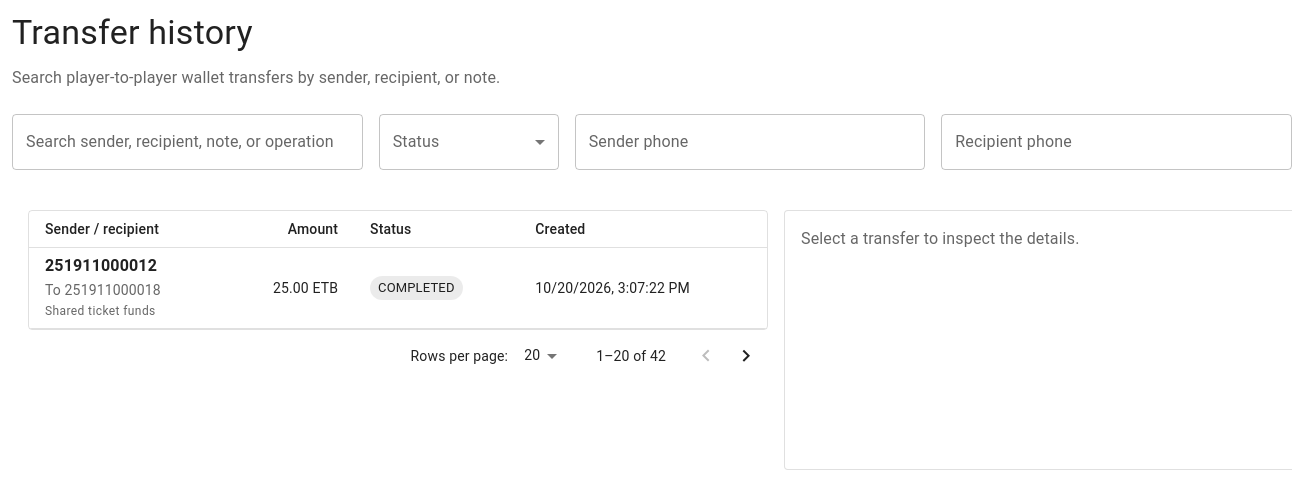
Test: WalletTransfersPage › does not display server internals when transfer detail fails
Click the button with test id "wallet-transfer-row-24" at (398, 288), box x1=29 y1=247 x2=767 y2=328
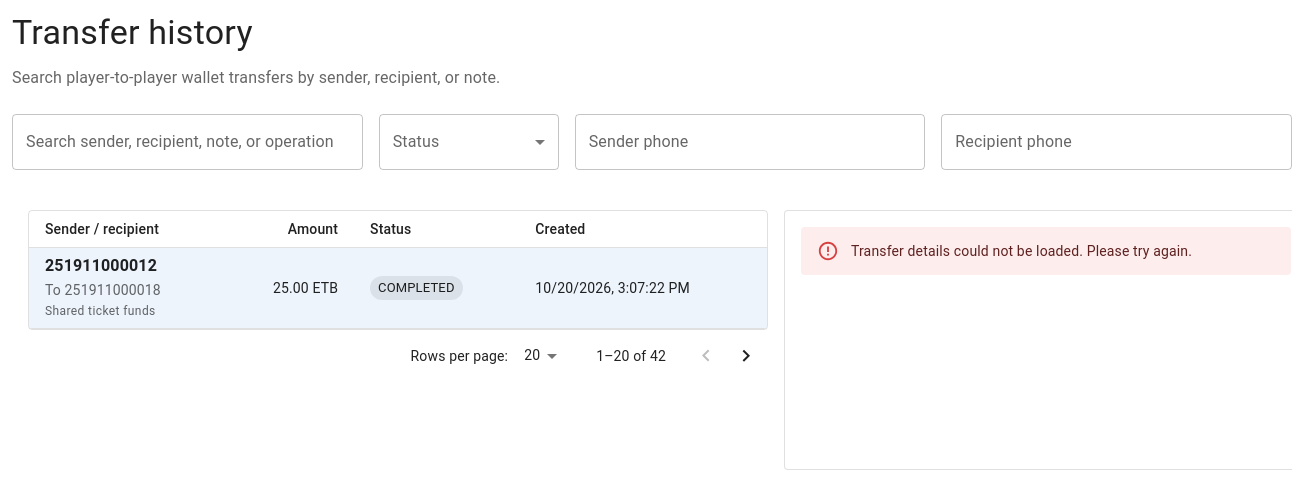
Expected: the message with test id "wallet-transfer-detail-error" reads "Transfer details could not be loaded. Please try again.", x1=851 y1=243 x2=1192 y2=259
